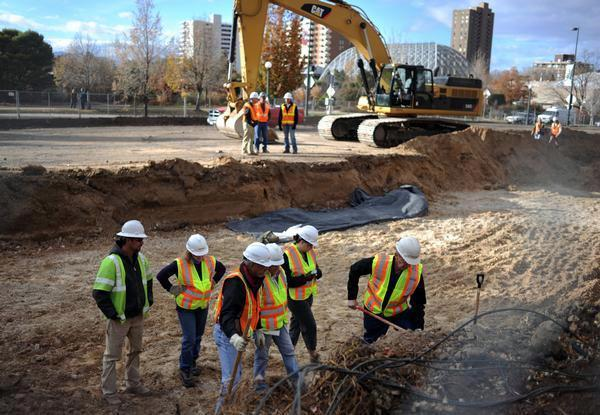helmet: (239, 239, 282, 272), (398, 236, 427, 267), (114, 217, 148, 240), (188, 232, 208, 258), (297, 224, 320, 243)
person: (94, 217, 156, 405), (339, 228, 437, 345), (162, 225, 224, 389), (217, 243, 273, 403), (285, 223, 322, 370)
vest: (104, 260, 148, 328), (369, 267, 409, 320), (177, 261, 216, 309), (259, 287, 291, 323)
